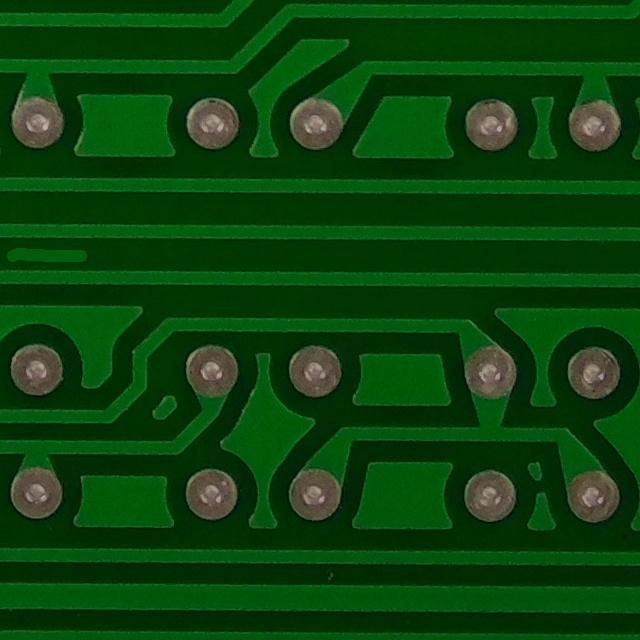spurious_copper: (0, 234, 91, 281)
